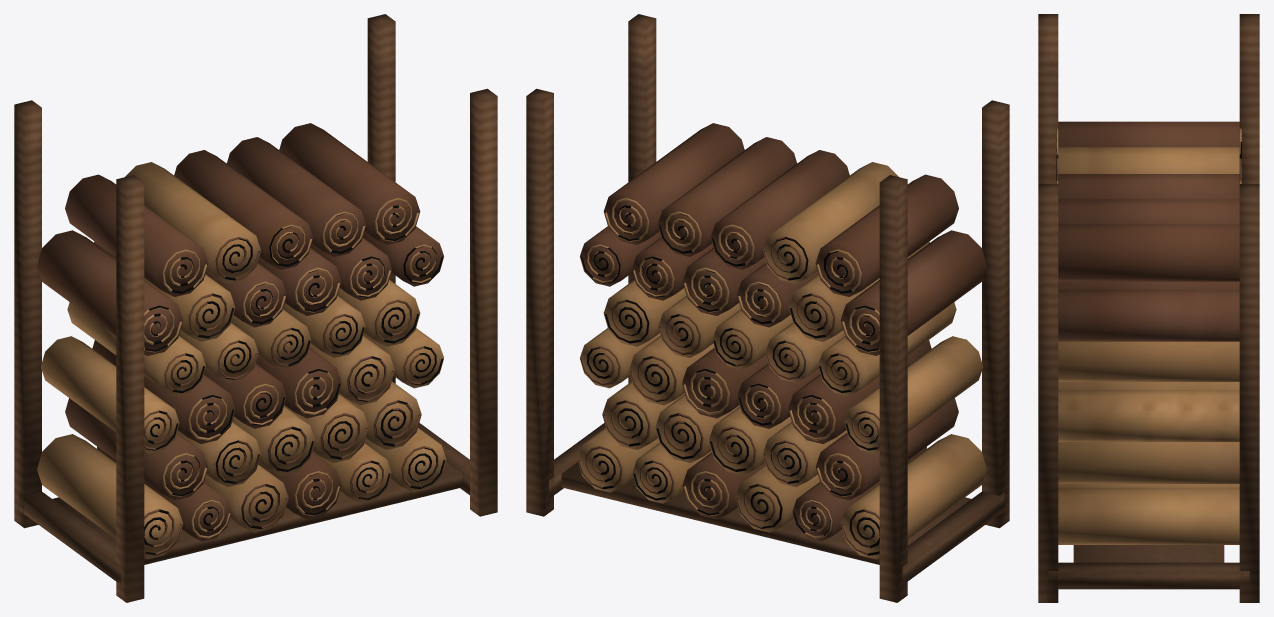
File: log_rack.glb
3 renders of one model, left to right at view 1: azimuth 30°, elevation 25°; view 2: azimuth 150°, elevation 25°; view 3: azimuth 270°, elevation 25°, orthographic.
Parts seen in each view (by area): view 1: log_rack_felt_brown, log_rack_felt_tan, log_rack_wood_dark; view 2: log_rack_felt_brown, log_rack_felt_tan, log_rack_wood_dark; view 3: log_rack_felt_tan, log_rack_felt_brown, log_rack_wood_dark.
Boxes of the visible parts, x1=… form: log_rack_felt_brown: x1=37, y1=123, x2=445, y2=555; log_rack_felt_tan: x1=37, y1=162, x2=446, y2=559; log_rack_wood_dark: x1=14, y1=14, x2=497, y2=602; log_rack_felt_brown: x1=578, y1=123, x2=986, y2=555; log_rack_felt_tan: x1=577, y1=162, x2=986, y2=559; log_rack_wood_dark: x1=526, y1=14, x2=1009, y2=602; log_rack_felt_tan: x1=1056, y1=128, x2=1241, y2=544; log_rack_felt_brown: x1=1056, y1=121, x2=1241, y2=341; log_rack_wood_dark: x1=1038, y1=14, x2=1259, y2=602.
Size of the model in its own units: 1.68 by 1.8 by 0.88.
Materials: 3 (3 with a texture image).
